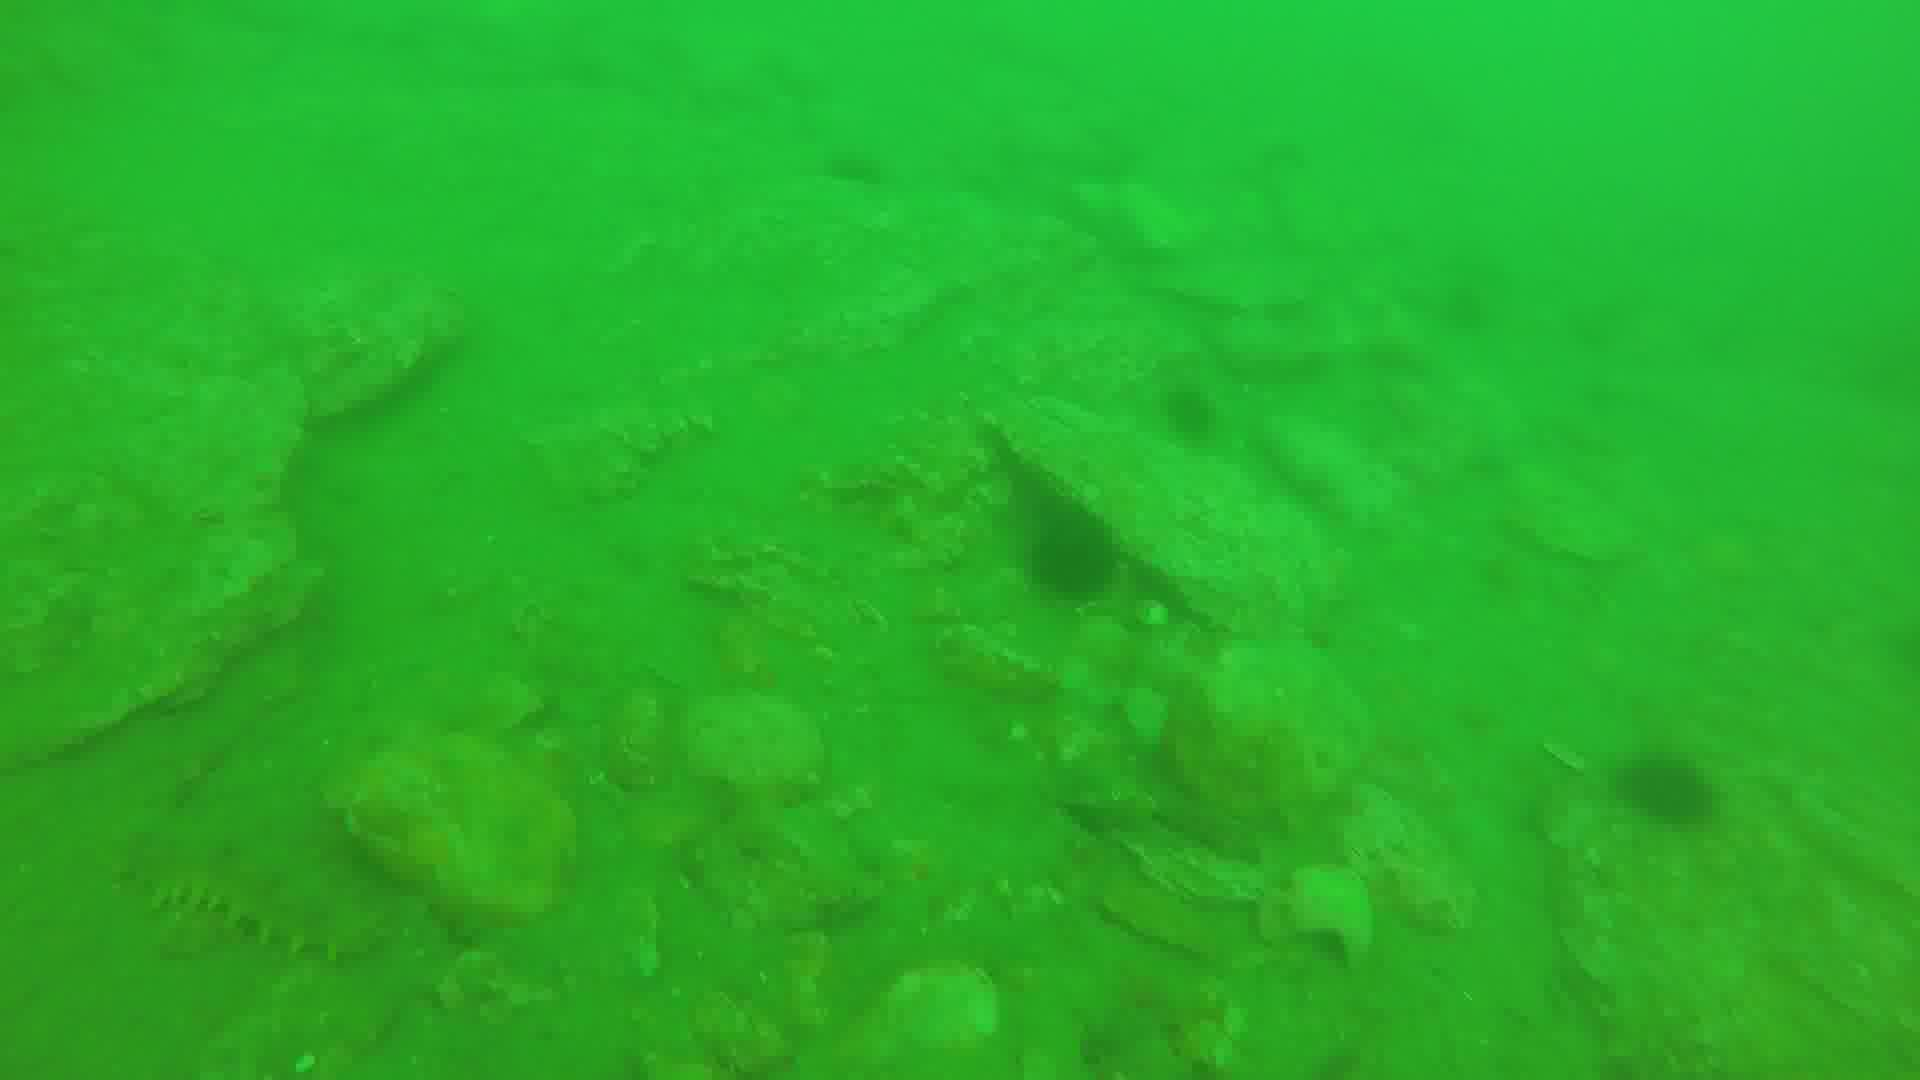echinus: (1634, 744, 1724, 836), (1035, 513, 1120, 600)
holothurian: (127, 824, 382, 971)
